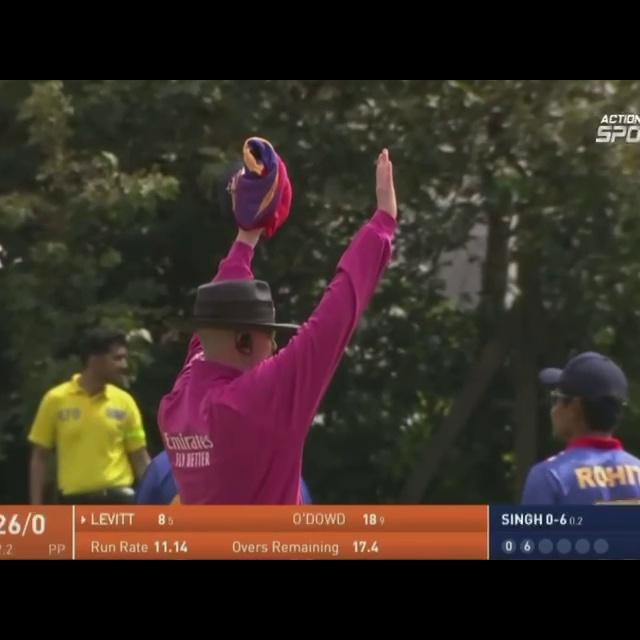umpire: (93, 120, 456, 487)
